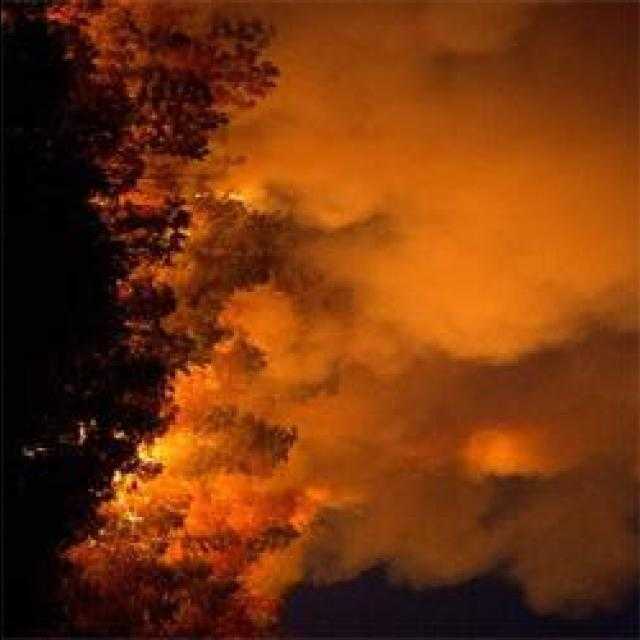smoke: (336, 418, 516, 596), (371, 222, 562, 362), (496, 484, 632, 620), (252, 102, 396, 228), (387, 0, 550, 69), (546, 260, 636, 350)
